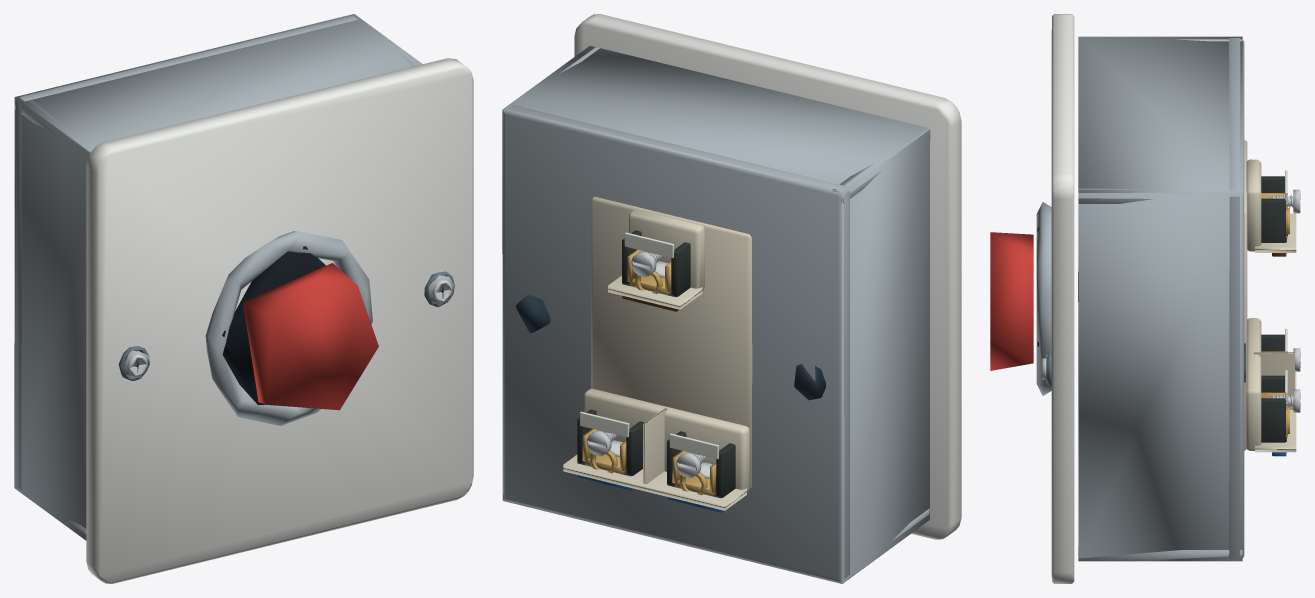
The model's file is pushbutton_stop-button.low.glb.
3 views of the same model, side by side, from view 1: azimuth 30°, elevation 25°; view 2: azimuth 150°, elevation 25°; view 3: azimuth 270°, elevation 25° (orthographic). The views are drawn at different scales.
Visible parts, largest first — view 1: part:cover, part:body · Original 2a8198d3, motion:push-cap, part:actuator, detail:faceplate-fixing · Detail zinc plated fixing, part:cover · Original 0905ee26; view 2: part:body · Original 2a8198d3, part:terminals · Original 5a609f27, part:cover, part:body · Original a463fd81, detail:terminal-clamp:COM · Detail moulded engineering polym, detail:terminal-clamp:NO · Detail moulded engineering polyme, detail:terminal-clamp:NC · Detail moulded engineering polyme, detail:terminal-clamp:NC · Detail machined brass, detail:terminal-clamp:COM · Detail machined brass, detail:terminal-clamp:NO · Detail machined brass, Moulded terminal legend pad, Moulded terminal legend pad.001 (+4 smaller); view 3: part:body · Original 2a8198d3, part:cover, part:terminals · Original 5a609f27, motion:push-cap, part:actuator, detail:terminal-clamp:NC · Detail moulded engineering polyme, detail:terminal-clamp:COM · Detail moulded engineering polym, detail:terminal-clamp:NO · Detail moulded engineering polyme.
Part boxes in pixels (x1=…): part:cover: x1=86, y1=58, x2=473, y2=583; part:body · Original 2a8198d3: x1=14, y1=14, x2=422, y2=540; motion:push-cap: x1=243, y1=263, x2=378, y2=410; part:actuator: x1=205, y1=231, x2=372, y2=425; detail:faceplate-fixing · Detail zinc plated fixing: x1=127, y1=280, x2=452, y2=376; part:cover · Original 0905ee26: x1=118, y1=271, x2=454, y2=380; part:body · Original 2a8198d3: x1=502, y1=45, x2=930, y2=583; part:terminals · Original 5a609f27: x1=563, y1=197, x2=752, y2=510; part:cover: x1=574, y1=14, x2=961, y2=539; part:body · Original a463fd81: x1=515, y1=294, x2=825, y2=400; detail:terminal-clamp:COM · Detail moulded engineering polym: x1=622, y1=230, x2=690, y2=297; detail:terminal-clamp:NO · Detail moulded engineering polyme: x1=667, y1=431, x2=735, y2=498; detail:terminal-clamp:NC · Detail moulded engineering polyme: x1=577, y1=409, x2=644, y2=476; detail:terminal-clamp:NC · Detail machined brass: x1=582, y1=429, x2=626, y2=473; detail:terminal-clamp:COM · Detail machined brass: x1=627, y1=249, x2=671, y2=294; detail:terminal-clamp:NO · Detail machined brass: x1=672, y1=450, x2=716, y2=495; Moulded terminal legend pad: x1=624, y1=232, x2=674, y2=258; Moulded terminal legend pad.001: x1=669, y1=433, x2=718, y2=459; part:body · Original 2a8198d3: x1=1078, y1=36, x2=1244, y2=561; part:cover: x1=1051, y1=14, x2=1074, y2=583; part:terminals · Original 5a609f27: x1=1244, y1=139, x2=1296, y2=452; motion:push-cap: x1=990, y1=232, x2=1033, y2=370; part:actuator: x1=1036, y1=202, x2=1051, y2=395; detail:terminal-clamp:NC · Detail moulded engineering polyme: x1=1261, y1=375, x2=1286, y2=442; detail:terminal-clamp:COM · Detail moulded engineering polym: x1=1261, y1=176, x2=1286, y2=242; detail:terminal-clamp:NO · Detail moulded engineering polyme: x1=1261, y1=334, x2=1284, y2=351.
Bounding box in the file's own units: 0.8902 × 0.9795 × 0.6727.
